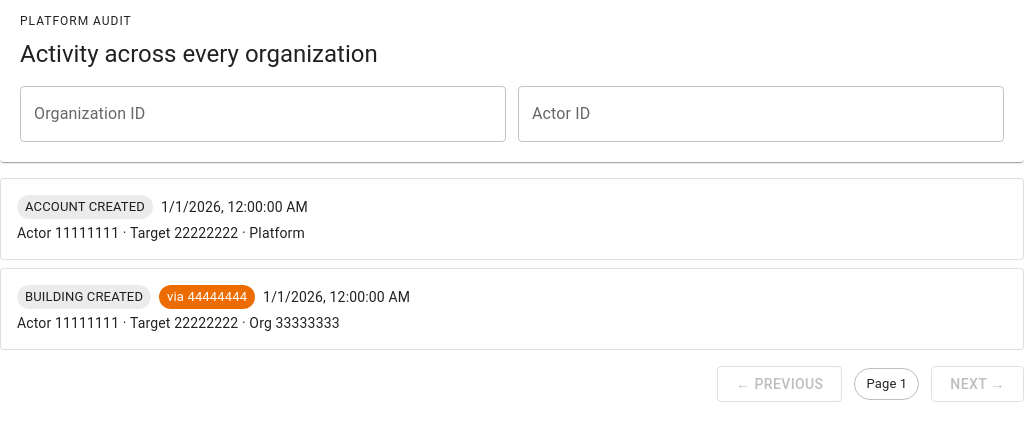
it: flags a filter that is not a UUID and does not query with it
Type "not-a-uuid" into the field labelled "Actor ID" at x=761, y=114, box [518, 86, 1004, 142]
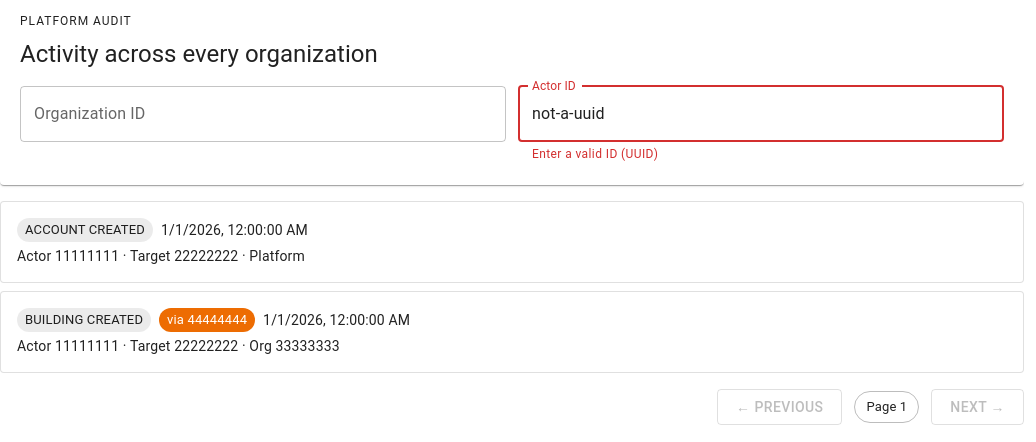
Expected: the text "Enter a valid ID (UUID)" is shown, [532, 147, 658, 161]
